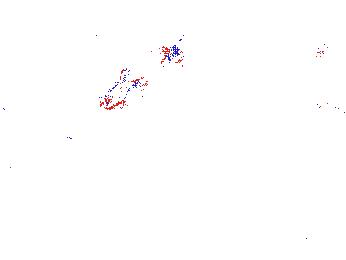glassfish: (1, 98, 71, 144)
red belly glassfish: (315, 43, 325, 60)
redtail glassfish: (97, 69, 149, 111), (165, 30, 189, 67), (316, 95, 346, 116)
